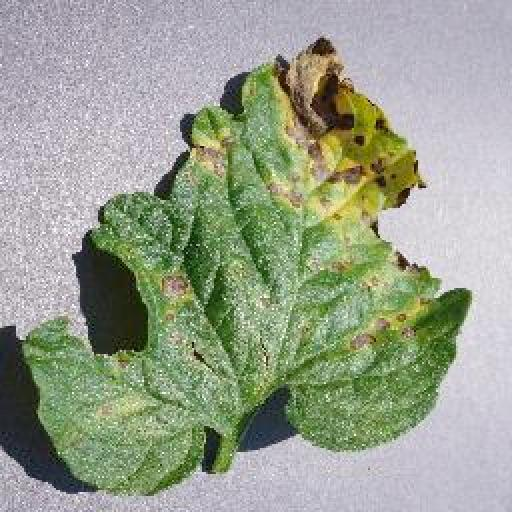disease_tomato: (20, 36, 474, 498)
